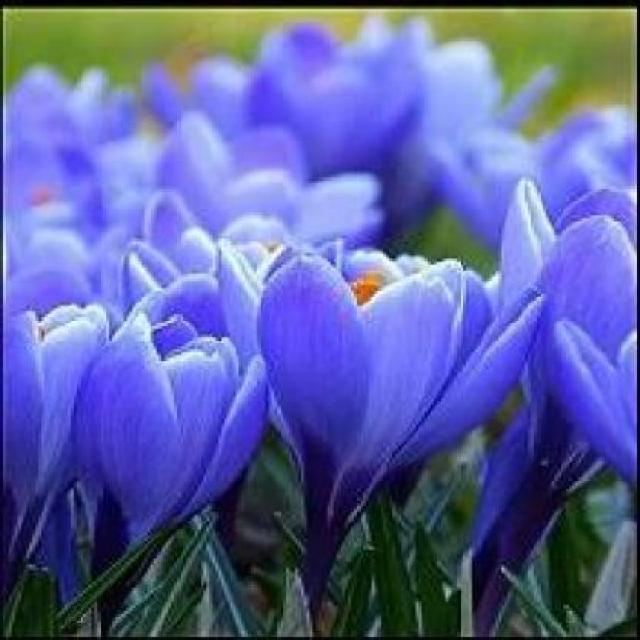Flower: (219, 234, 538, 546), (68, 312, 267, 588)
